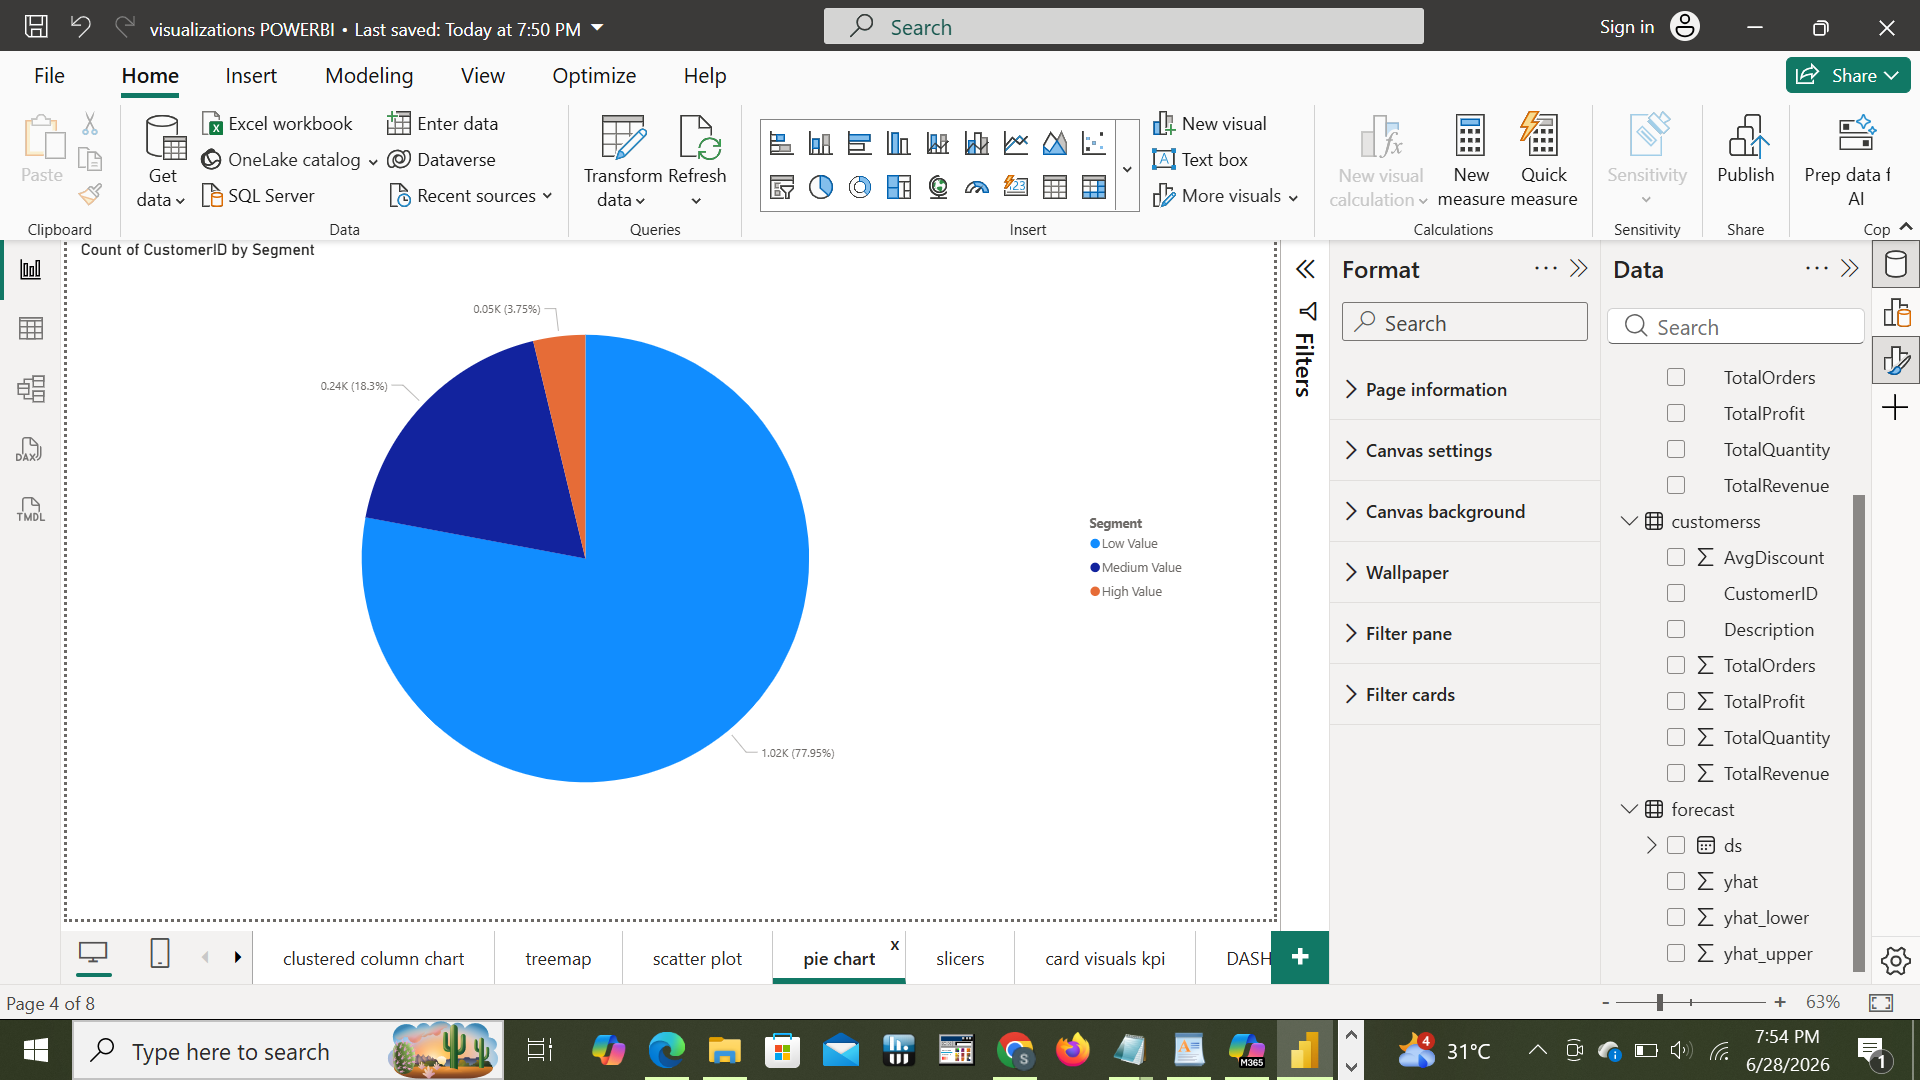

This screenshot's page, from the dashboard's own definition file:
{"tool":"powerbi","page":{"name":"pie chart","canvas":[1280,720],"ordinal":3},"visuals":[{"type":"pieChart","fields":{"Category":["customerspend_powerbi.Segment"],"Y":["CountNonNull(customerspend_powerbi.CustomerID)"]},"box":[10,0,1186.6,655.6],"z":0}]}

Visuals, with their boxes on the page's 1280x720 design canvas (x1, y1, x2, y2). These are canvas units, not pixel positions in the 1920x1080 screenshot, which may show the page scaled, cropped or inside an application window:
pieChart - customerspend_powerbi.Segment x CountNonNull(customerspend_powerbi.CustomerID): box(10, 0, 1197, 656)
